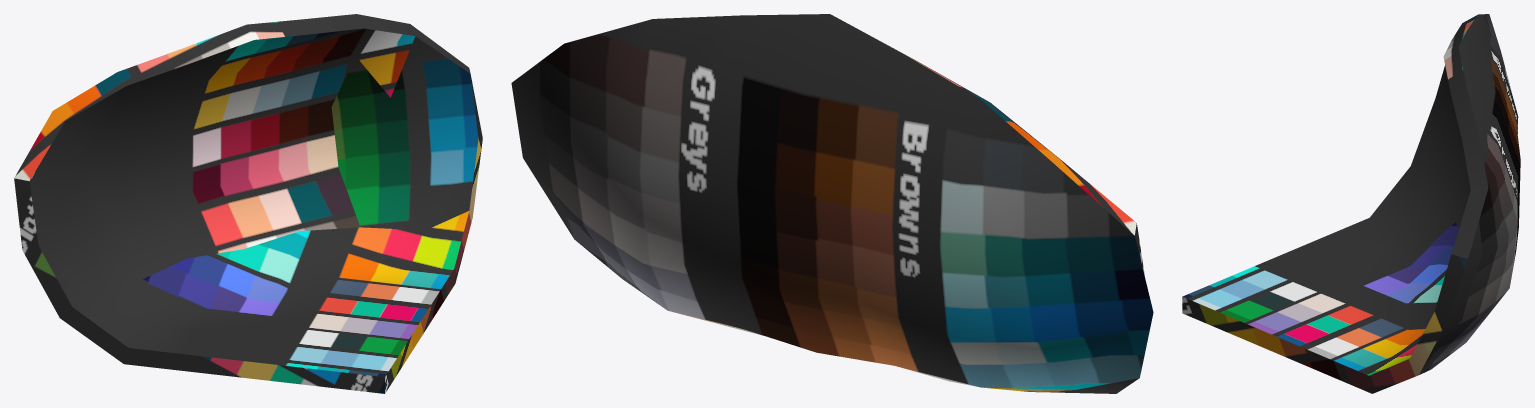
The model's file is basic_concave_halfcorner.obj.
3 renders of one model, left to right at view 1: azimuth 30°, elevation 25°; view 2: azimuth 150°, elevation 25°; view 3: azimuth 270°, elevation 25°, orthographic. The views are drawn at different scales.
Visible parts, largest first — view 1: basic_concave_halfcorner_glb_ID3.101; view 2: basic_concave_halfcorner_glb_ID3.101; view 3: basic_concave_halfcorner_glb_ID3.101.
Part boxes in pixels (box(x1,y1,x2,y2)): basic_concave_halfcorner_glb_ID3.101: box(14, 14, 482, 393); basic_concave_halfcorner_glb_ID3.101: box(511, 14, 1153, 393); basic_concave_halfcorner_glb_ID3.101: box(1182, 14, 1520, 393).
Size of the model in its own units: 6.96 by 3.87 by 4.46.
